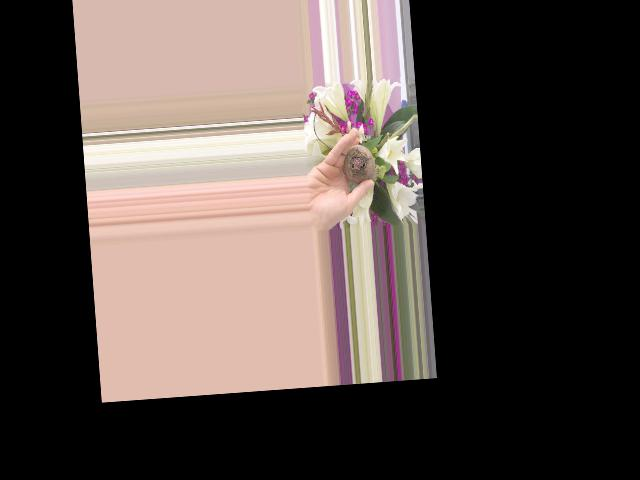beet: (341, 142, 376, 184)
